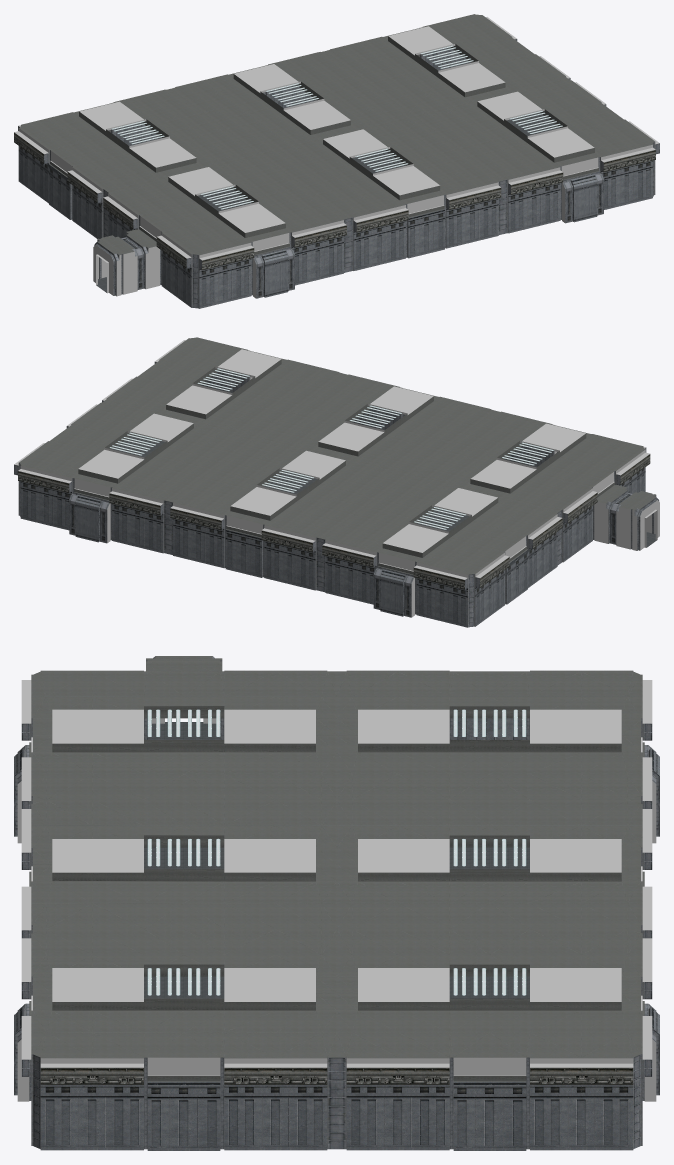
File: poi_all_impl_bunker_small_outpost_s02_r8_barracks_mesh.fbx
3 renders of one model, top to bottom at view 1: azimuth 30°, elevation 25°; view 2: azimuth 150°, elevation 25°; view 3: azimuth 270°, elevation 25°, orthographic. The views are drawn at different scales.
Visible parts, largest first — view 1: mesh_node; view 2: mesh_node; view 3: mesh_node.
Part boxes in pixels (<box>): mesh_node: <box>14,14,659,308</box>; mesh_node: <box>14,337,659,627</box>; mesh_node: <box>14,656,659,1150</box>.
Size of the model in its own units: 53.5 by 6 by 33.8.
